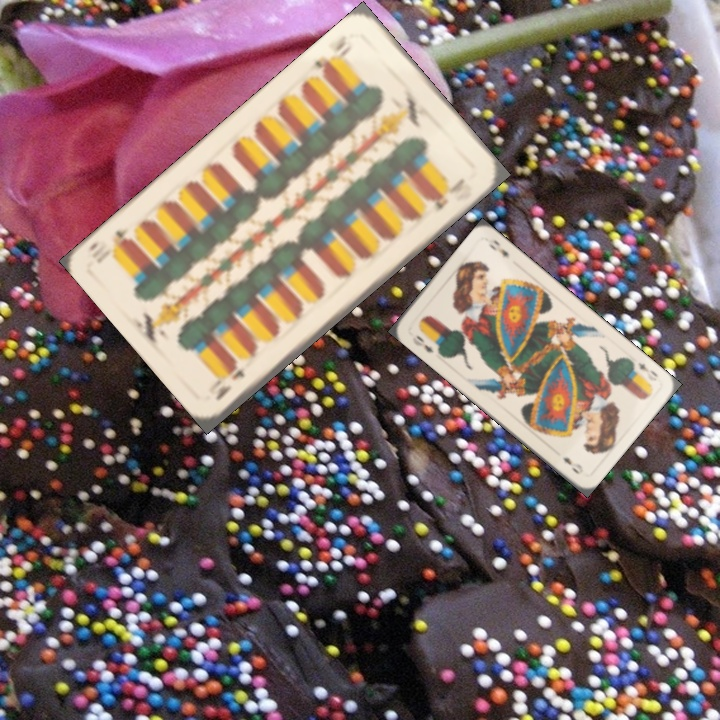E10: (310, 31, 355, 79), (211, 363, 248, 403)
EO: (628, 357, 660, 380), (412, 331, 437, 356)
